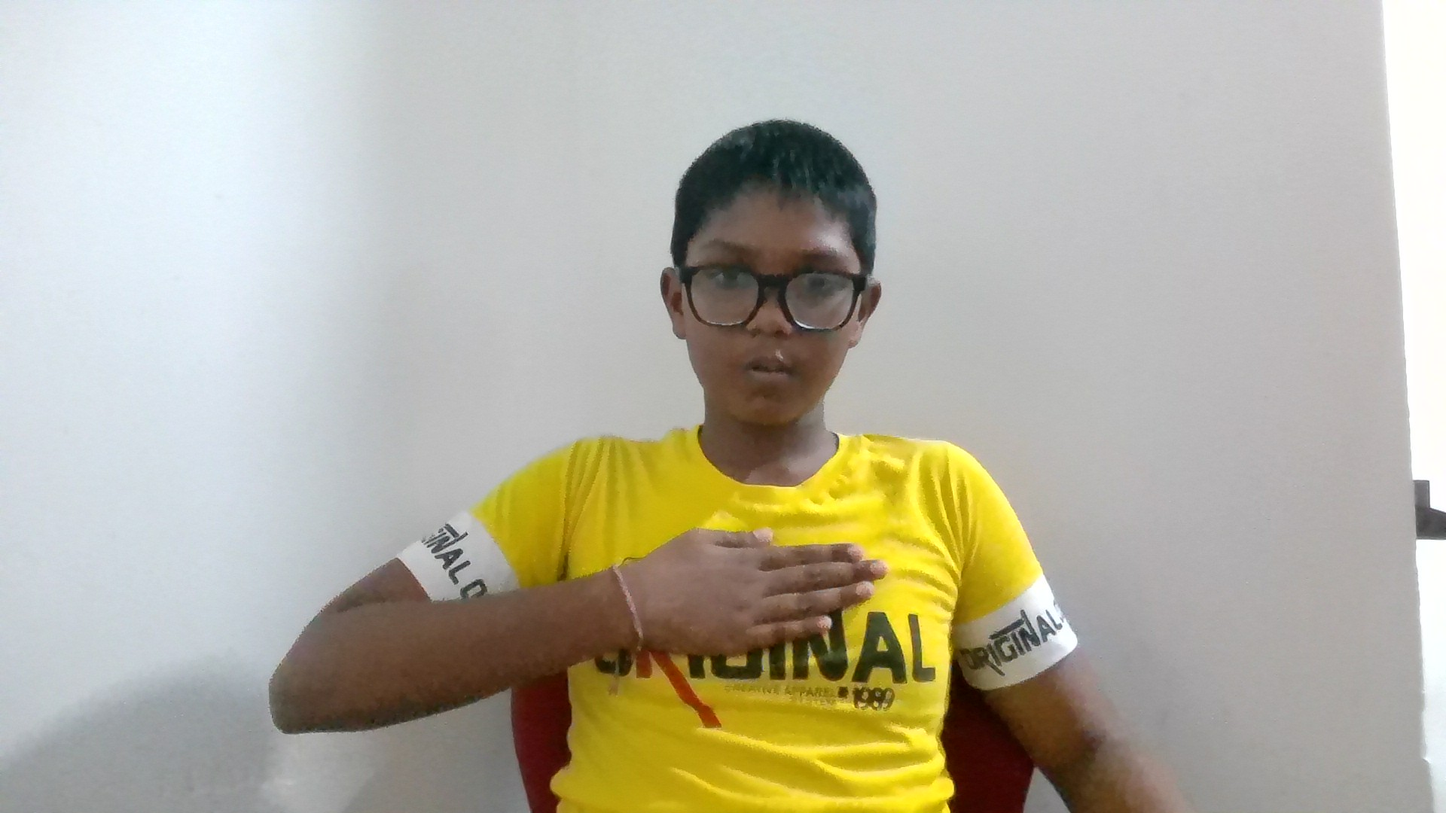Please: (537, 477, 995, 684)
